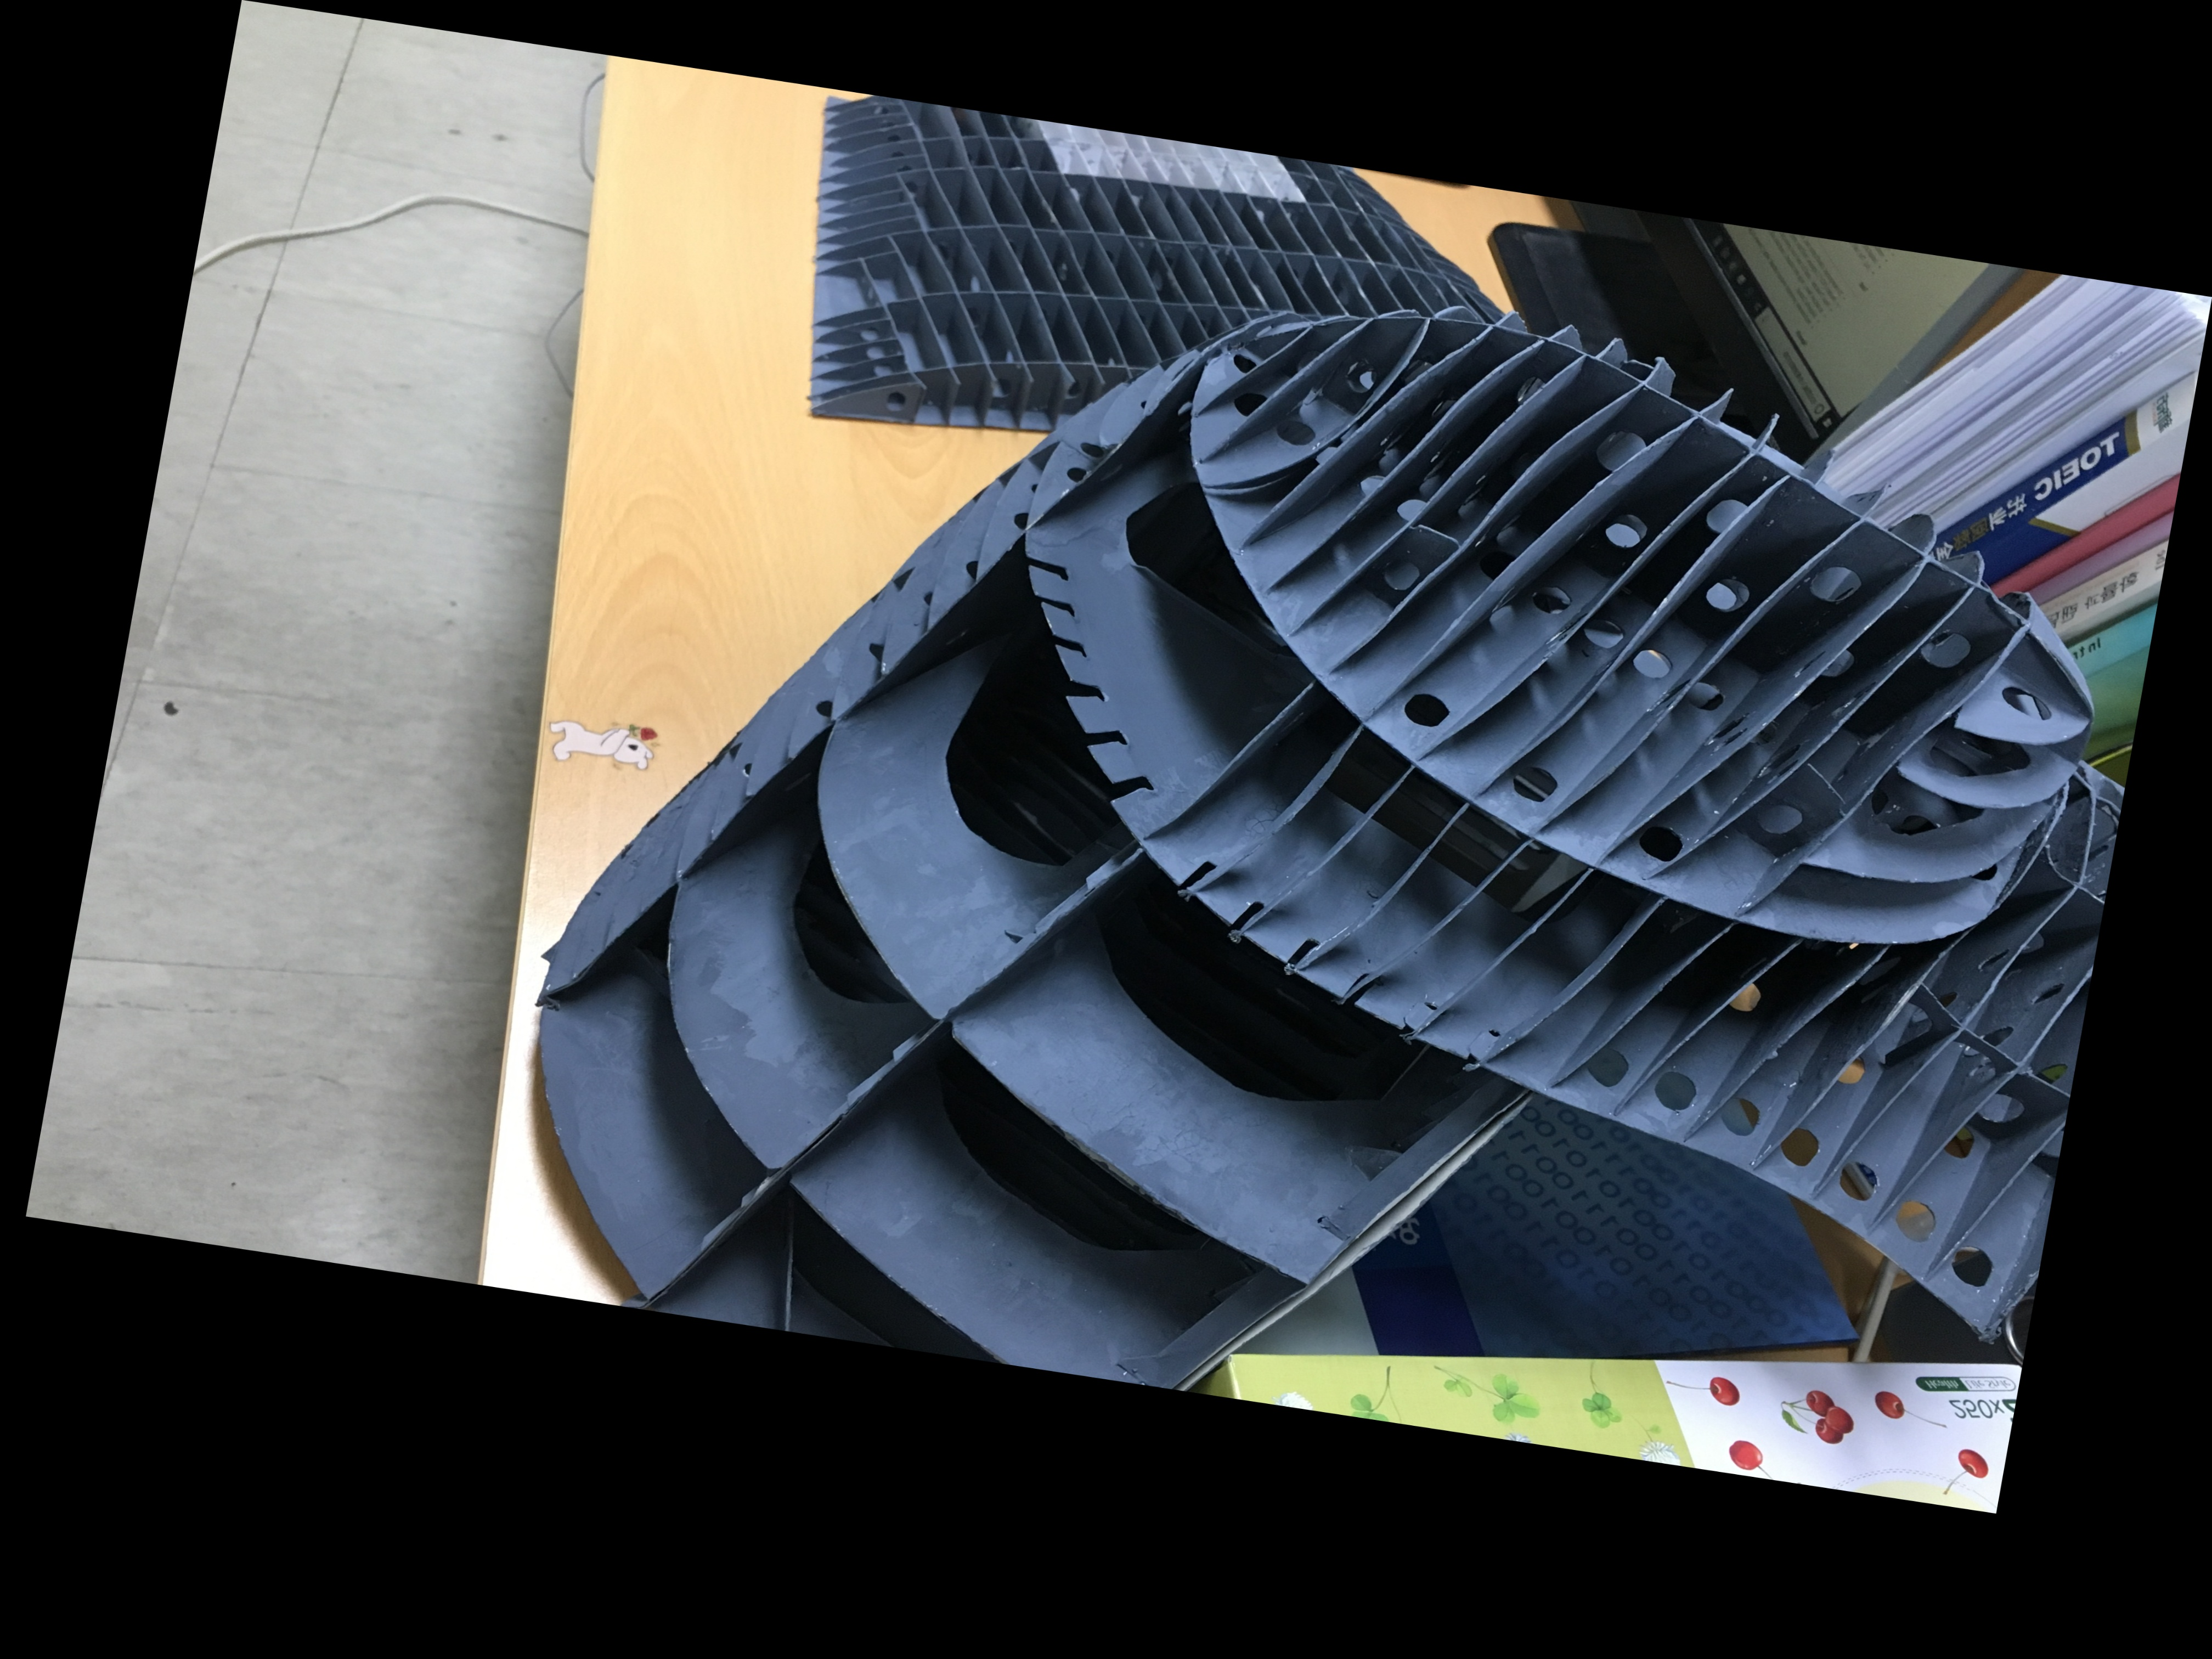D: (61, 5, 1952, 1361)
